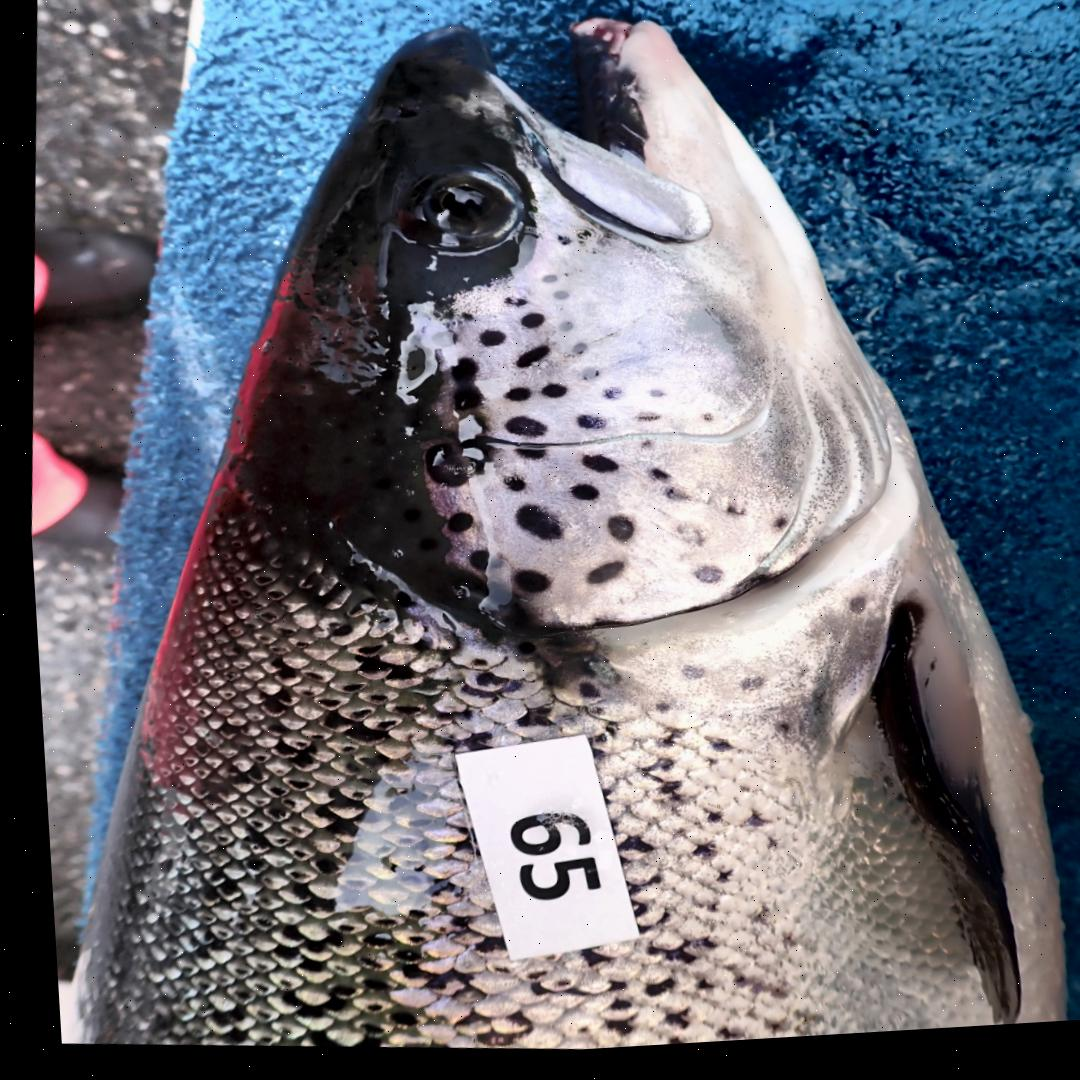spot: (417, 445, 470, 493), (509, 510, 556, 548), (497, 422, 541, 444), (505, 576, 543, 600), (578, 569, 616, 591), (461, 556, 495, 578), (600, 523, 626, 550), (575, 461, 610, 481), (510, 353, 543, 374), (669, 528, 695, 554), (686, 573, 716, 593), (446, 364, 472, 387), (439, 517, 466, 539), (449, 393, 472, 416), (473, 336, 500, 354), (563, 491, 592, 507), (570, 421, 599, 437), (536, 390, 562, 406), (516, 319, 540, 335), (496, 481, 519, 497), (763, 524, 781, 541), (501, 394, 524, 407), (656, 496, 679, 509), (511, 455, 537, 466), (596, 395, 618, 408), (640, 477, 663, 489), (566, 349, 584, 362), (628, 420, 653, 429), (574, 375, 592, 387), (500, 303, 521, 313), (718, 516, 738, 524), (642, 398, 661, 406), (554, 328, 567, 338), (550, 298, 564, 307), (537, 282, 552, 290), (554, 243, 567, 252), (693, 422, 706, 430), (457, 318, 468, 327), (636, 447, 647, 455)
